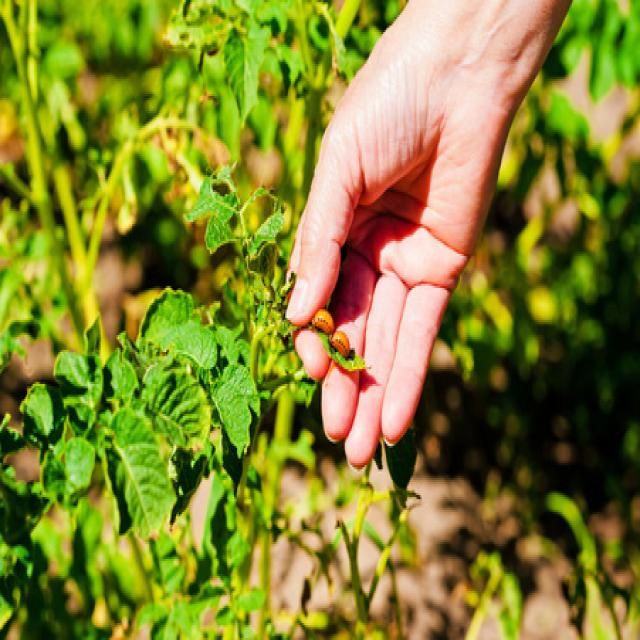ShuCaiHuaBanChong-Larva-: (309, 294, 338, 339), (330, 324, 354, 366)
